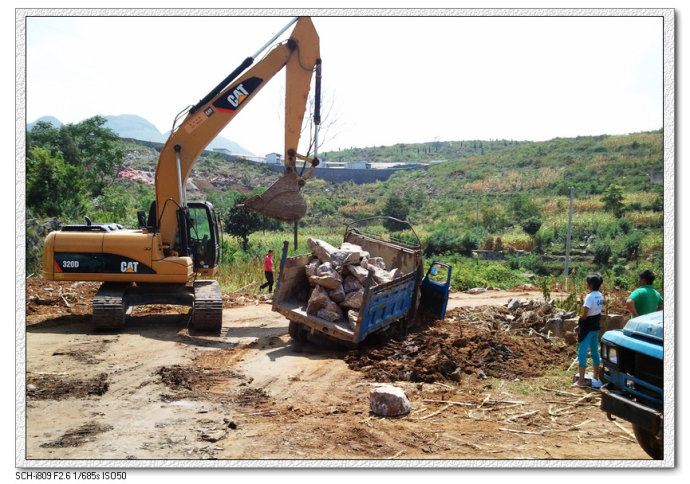excavator: (39, 8, 328, 361)
